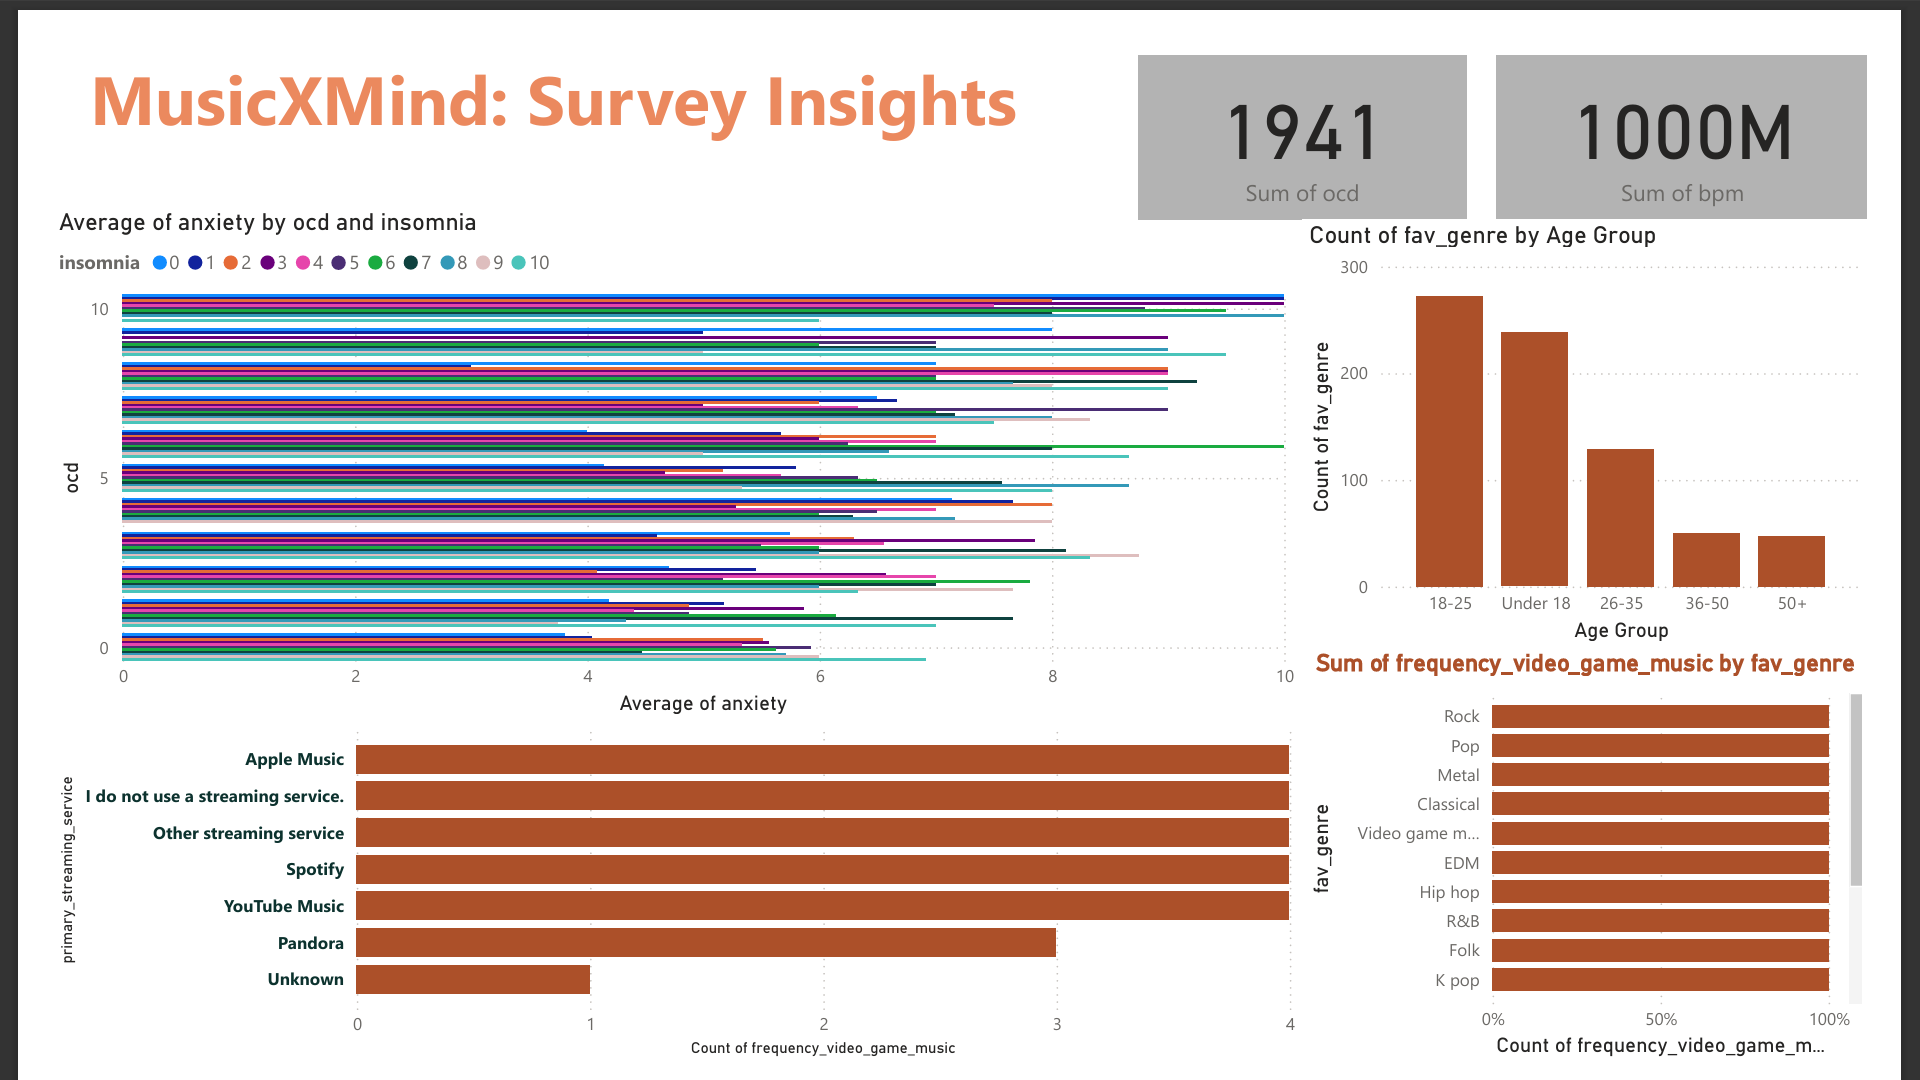

What the dashboard file says about the page in this screenshot:
{"tool":"powerbi","page":{"name":"MusicXMind: Survey Insights","canvas":[1280,720],"ordinal":2},"visuals":[{"type":"textbox","box":[9.7,0,687.1,130.6],"z":0},{"type":"clusteredBarChart","fields":{"Category":["mxmh_survey_cleaned.primary_streaming_service"],"Y":["Count(mxmh_survey_cleaned.frequency_video_game_music)"]},"box":[0,451.6,882.3,267.7],"z":1},{"type":"clusteredBarChart","fields":{"Series":["mxmh_survey_cleaned.insomnia"],"Category":["mxmh_survey_cleaned.ocd"],"Y":["Avg(mxmh_survey_cleaned.anxiety)"]},"box":[0,114.5,882.3,362.9],"z":2},{"type":"card","fields":{"Values":["Sum(mxmh_survey_cleaned.ocd)"]},"box":[766.1,8.1,232.3,116.1],"z":3},{"type":"card","fields":{"Values":["Sum(mxmh_survey_cleaned.bpm)"]},"box":[1019.4,8.1,261.3,116.1],"z":4},{"type":"hundredPercentStackedBarChart","title":"Sum of frequency_video_game_music by fav_genre","fields":{"Y":["CountNonNull(mxmh_survey_cleaned.frequency_video_game_music)"],"Category":["mxmh_survey_cleaned.fav_genre"]},"box":[882.3,425.8,398.4,293.5],"z":5},{"type":"clusteredColumnChart","fields":{"Category":["mxmh_survey_cleaned.Age Group"],"Y":["CountNonNull(mxmh_survey_cleaned.fav_genre)"]},"box":[882.3,124.2,398.4,301.6],"z":6}]}

Visuals, with their boxes in screenshot pixels (x1, y1, x2, y2), scaled from the page's 1280x720 canvas onto the 1920x1080 screenshot:
textbox: x1=15, y1=0, x2=1045, y2=196
clusteredBarChart - mxmh_survey_cleaned.primary_streaming_service x Count(mxmh_survey_cleaned.frequency_video_game_music): x1=0, y1=677, x2=1323, y2=1079
clusteredBarChart - mxmh_survey_cleaned.insomnia x mxmh_survey_cleaned.ocd: x1=0, y1=172, x2=1323, y2=716
card - Sum(mxmh_survey_cleaned.ocd): x1=1149, y1=12, x2=1498, y2=186
card - Sum(mxmh_survey_cleaned.bpm): x1=1529, y1=12, x2=1919, y2=186
"Sum of frequency_video_game_music by fav_genre" hundredPercentStackedBarChart: x1=1323, y1=639, x2=1919, y2=1079
clusteredColumnChart - mxmh_survey_cleaned.Age Group x CountNonNull(mxmh_survey_cleaned.fav_genre): x1=1323, y1=186, x2=1919, y2=639
